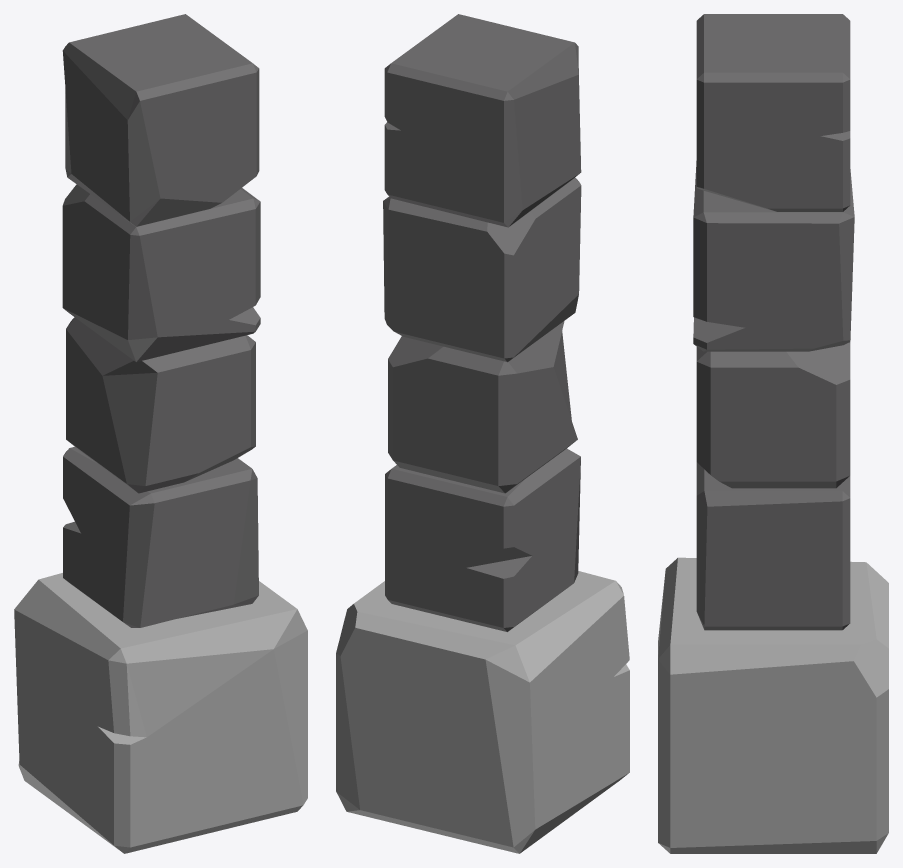
File: WallPillar.gltf
3 renders of one model, left to right at view 1: azimuth 30°, elevation 25°; view 2: azimuth 150°, elevation 25°; view 3: azimuth 270°, elevation 25°, orthographic. The views are drawn at different scales.
Parts seen in each view (by area): view 1: WallPole; view 2: WallPole; view 3: WallPole.
Boxes of the visible parts, x1=… form: WallPole: x1=14, y1=14, x2=307, y2=853; WallPole: x1=336, y1=14, x2=629, y2=853; WallPole: x1=658, y1=14, x2=888, y2=853.
Bounding box in the file's own units: 0.6 × 2.2 × 0.6.
Materials: 1 (1 with a texture image).
